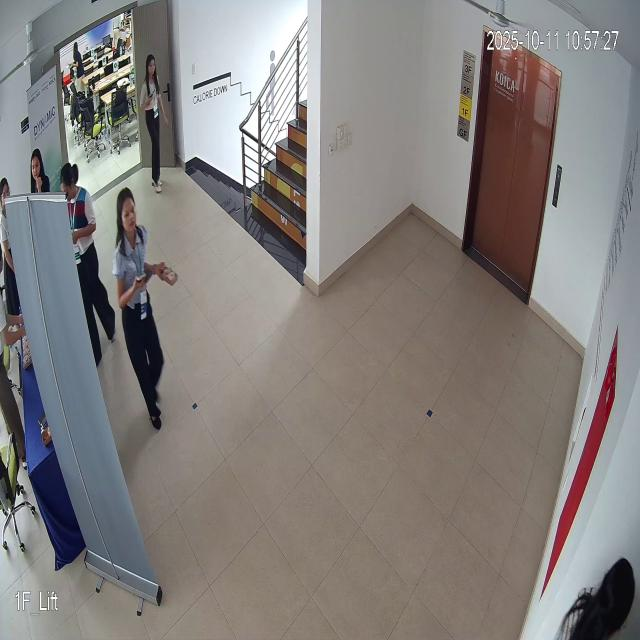face: (110, 186, 144, 240)
